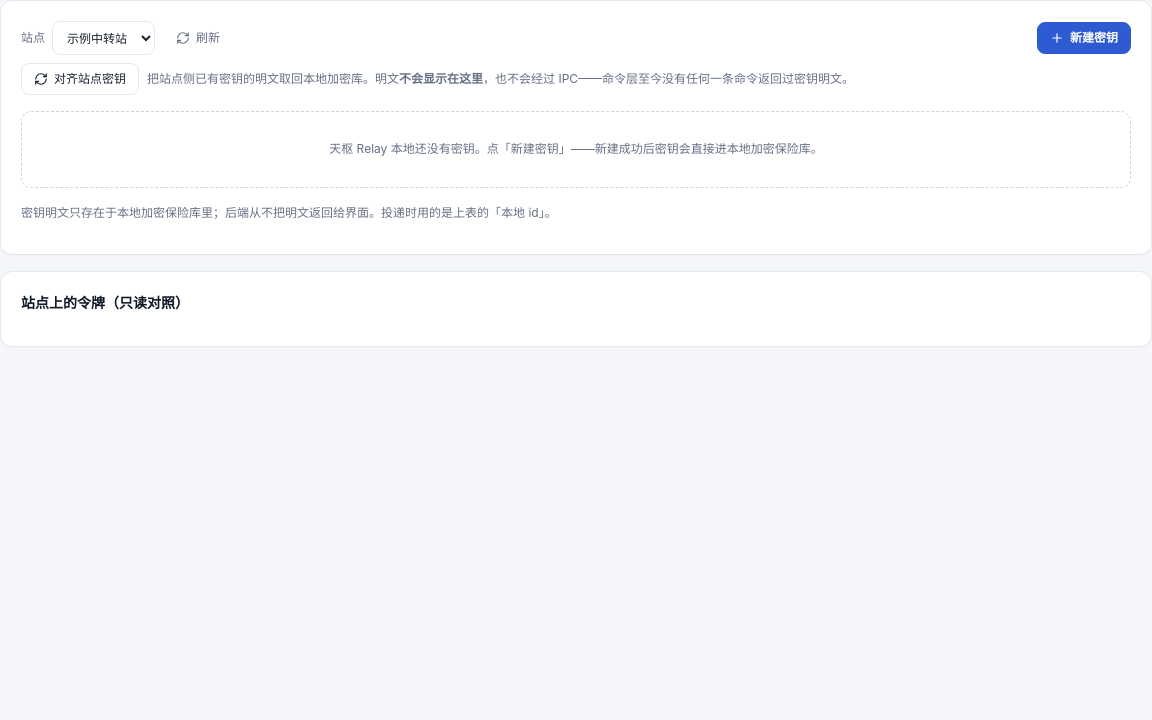
Test: M19-S1 密钥分组绑定 › NewAPI（分组无原生 id）不误报：不传分组等于跟随用户自己的分组，是安全默认
The width and height of the screenshot is (1152, 720).
Click the button "新建密钥" at (1084, 38), box [1037,22,1131,54]
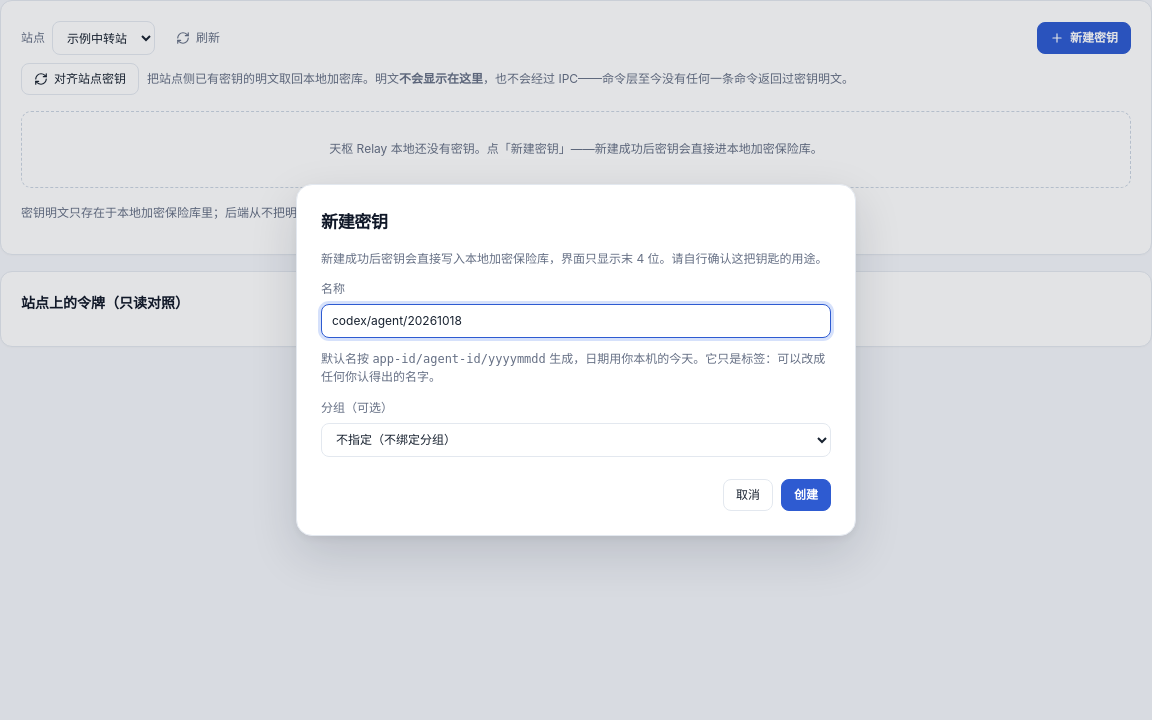
Check: the dropdown labelled "分组（可选）" shows "不指定（不绑定分组）", box [321,423,831,457]
